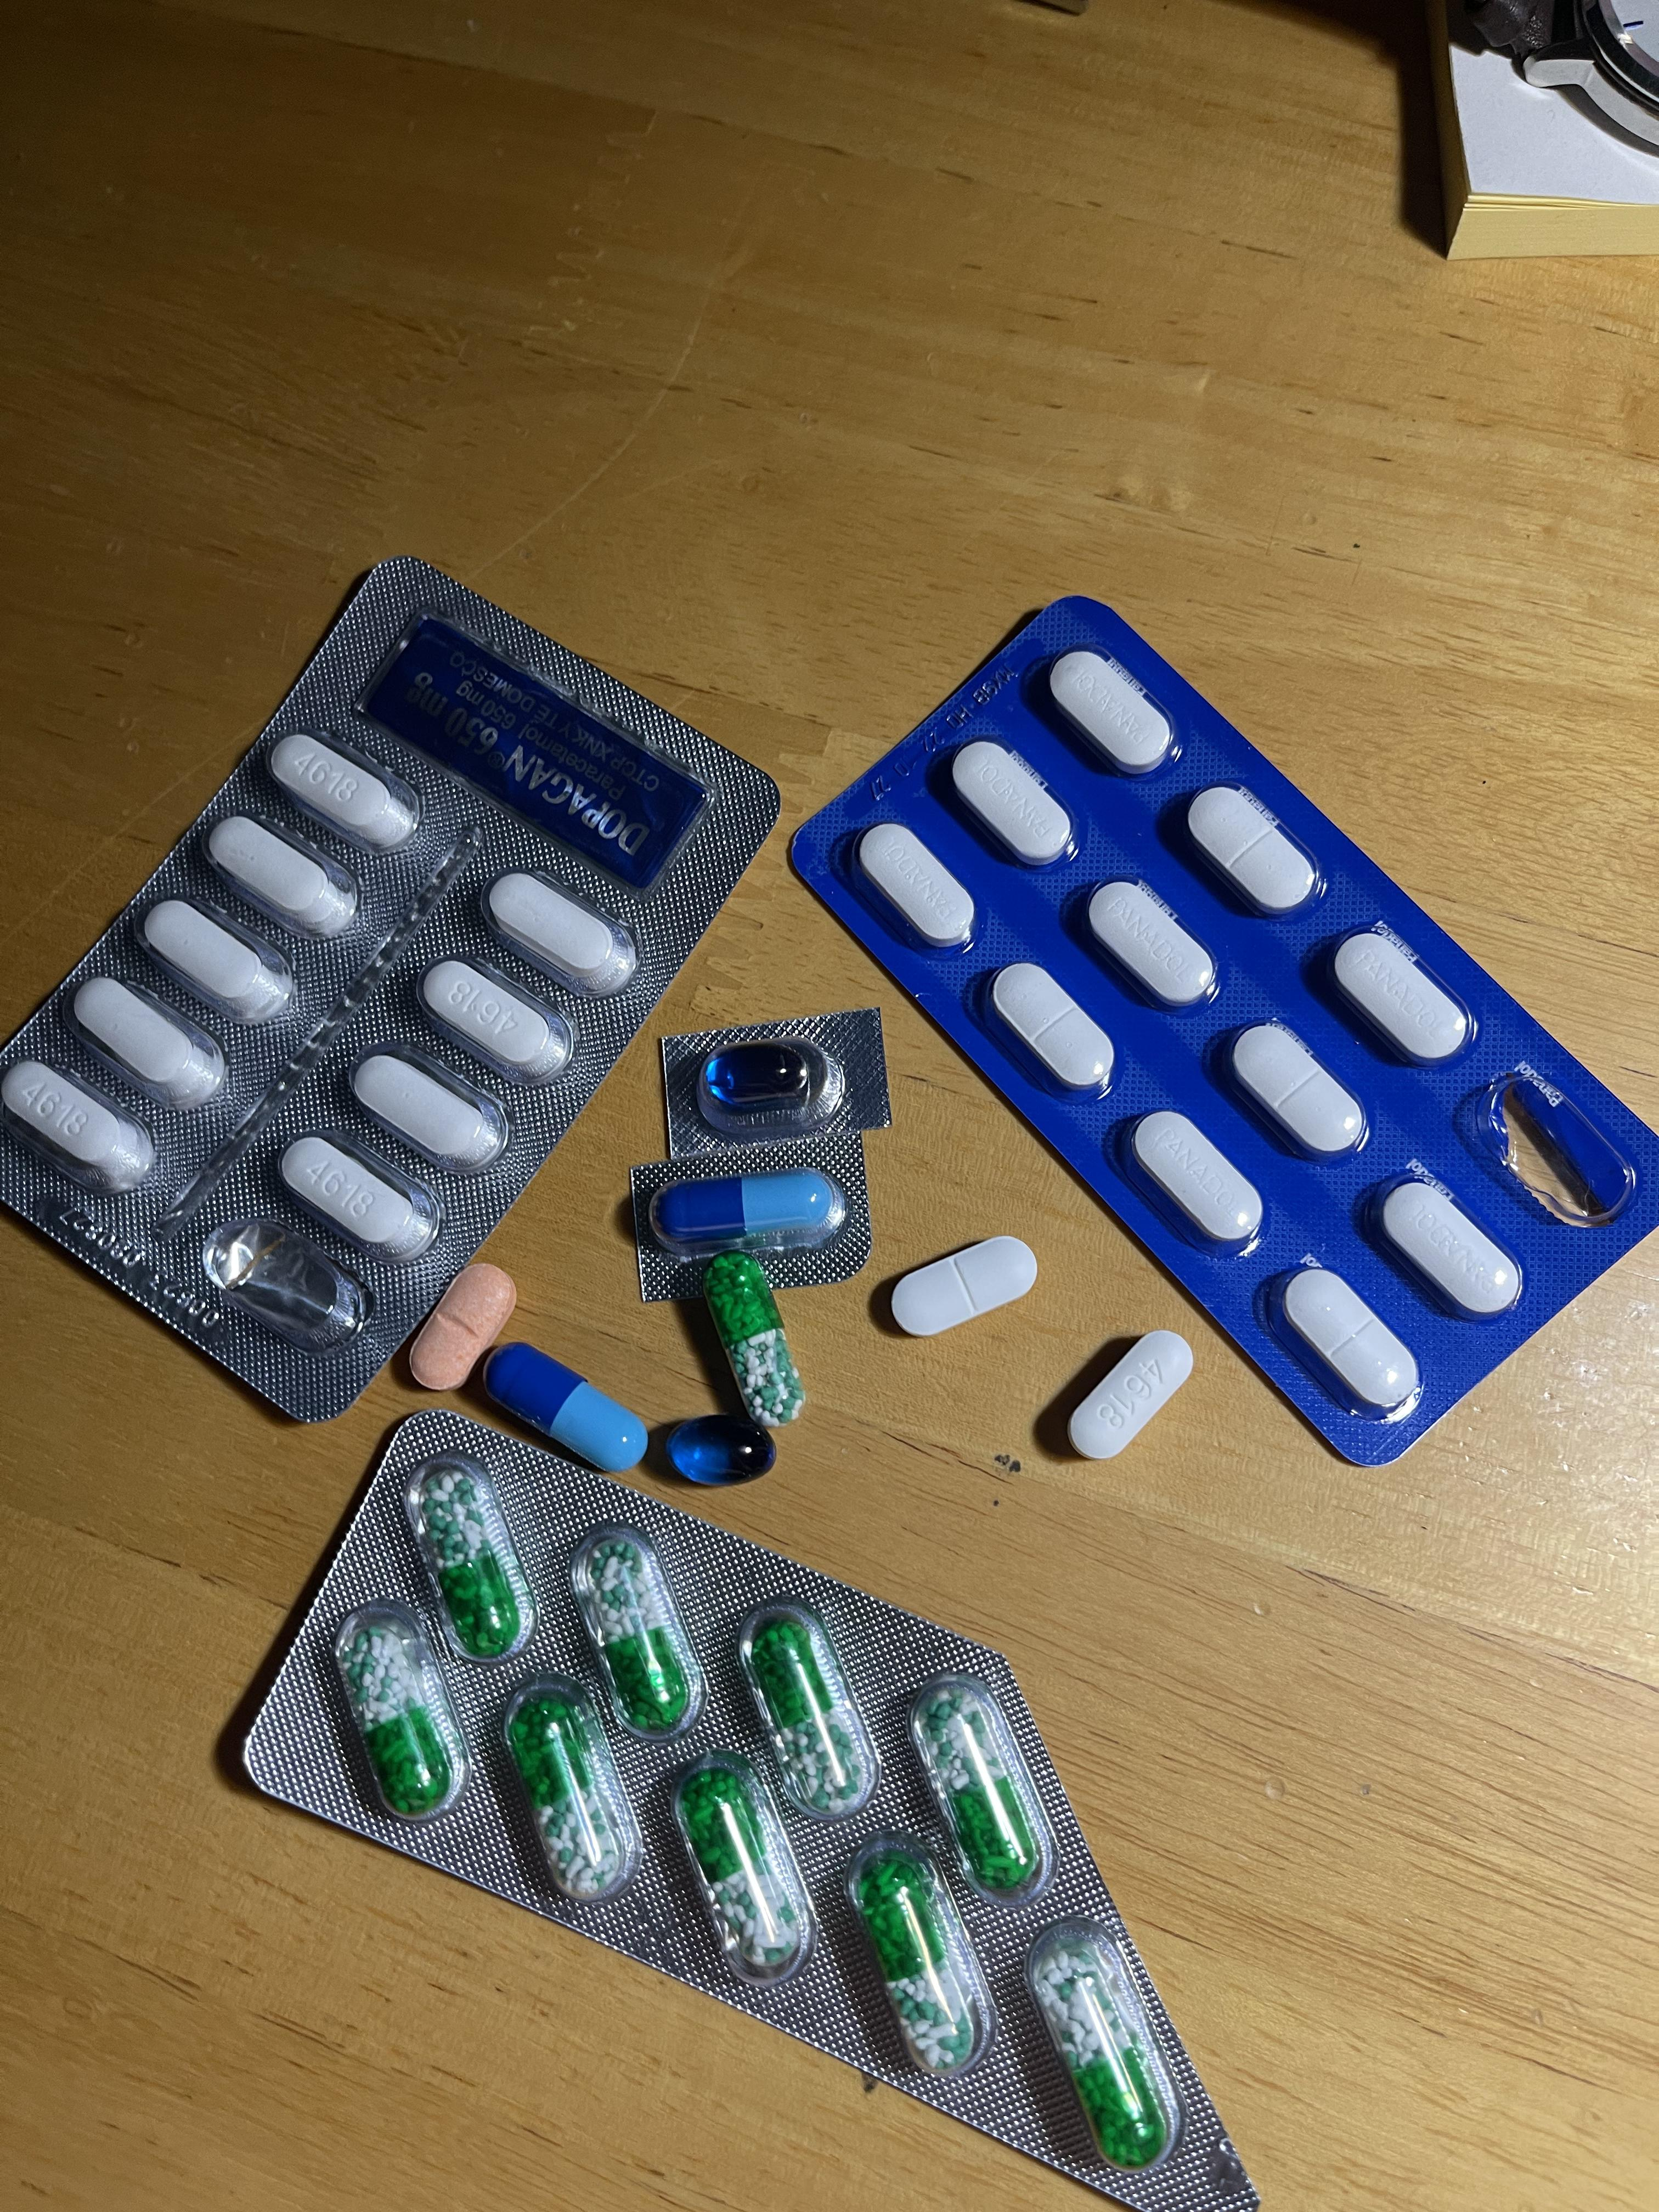Lincomyxin_500mg: (664, 1411, 775, 1484), (702, 1043, 812, 1113)
Loratadine_10mg: (408, 1258, 519, 1386)
Paracetamol_350mg: (1262, 1264, 1417, 1423), (1368, 1172, 1525, 1324), (1319, 925, 1474, 1068), (1121, 1109, 1267, 1256), (1225, 1021, 1368, 1163), (1182, 786, 1321, 920), (985, 961, 1115, 1101), (1079, 880, 1215, 1012), (1044, 650, 1175, 780), (948, 740, 1075, 871), (852, 822, 974, 956), (885, 1233, 1040, 1336)
Paracetamol_500mg: (418, 956, 577, 1087), (0, 1059, 148, 1198), (141, 899, 295, 1033), (484, 869, 641, 998), (75, 977, 225, 1111), (281, 1134, 437, 1259), (204, 817, 357, 942), (352, 1052, 505, 1176), (268, 732, 420, 853), (1068, 1327, 1194, 1460)
Paracetamol_650mg: (1033, 1937, 1157, 2167), (857, 1851, 972, 2074), (918, 1683, 1037, 1883), (751, 1618, 870, 1810), (509, 1695, 622, 1893), (340, 1623, 453, 1815), (681, 1773, 789, 1963), (589, 1547, 694, 1733), (701, 1251, 803, 1428), (418, 1479, 523, 1639)
pill: (483, 1341, 652, 1472), (652, 1167, 842, 1258)
